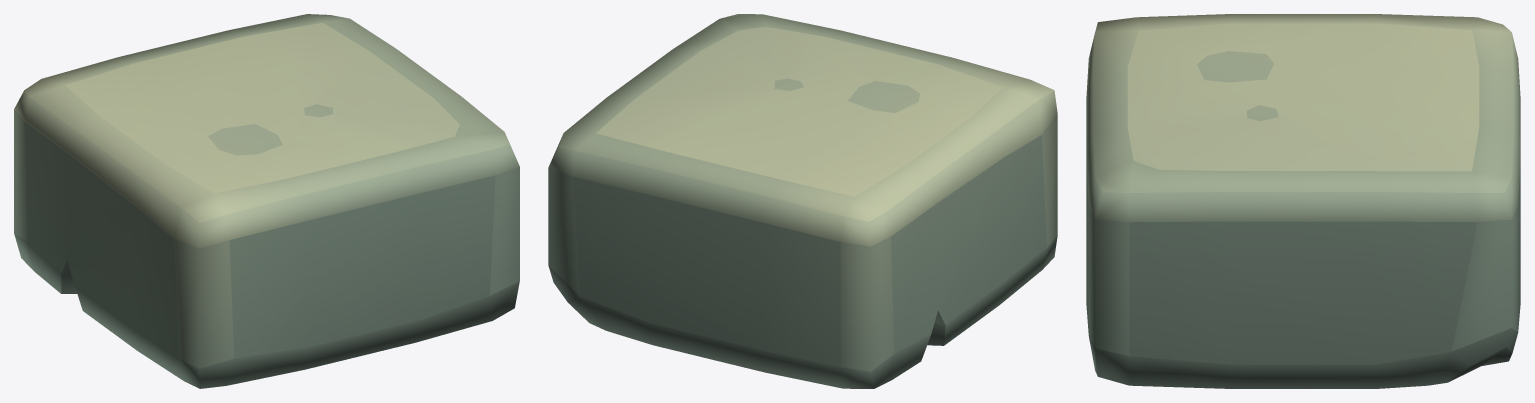
File: block_stone1_3_half_dark_LOD_group.fbx
3 views of the same model, side by side, from view 1: azimuth 30°, elevation 25°; view 2: azimuth 150°, elevation 25°; view 3: azimuth 270°, elevation 25° (orthographic). The views are drawn at different scales.
Visible parts, largest first — view 1: block_stone1_3_half_dark_LOD0; view 2: block_stone1_3_half_dark_LOD0; view 3: block_stone1_3_half_dark_LOD0.
Part boxes in pixels (bbox=[...]): block_stone1_3_half_dark_LOD0: bbox=[14, 14, 519, 388]; block_stone1_3_half_dark_LOD0: bbox=[548, 14, 1057, 388]; block_stone1_3_half_dark_LOD0: bbox=[1086, 14, 1520, 388].
Size of what is drawn, in the model's own units: 105 by 57.22 by 106.
1 material, 1 textured.
